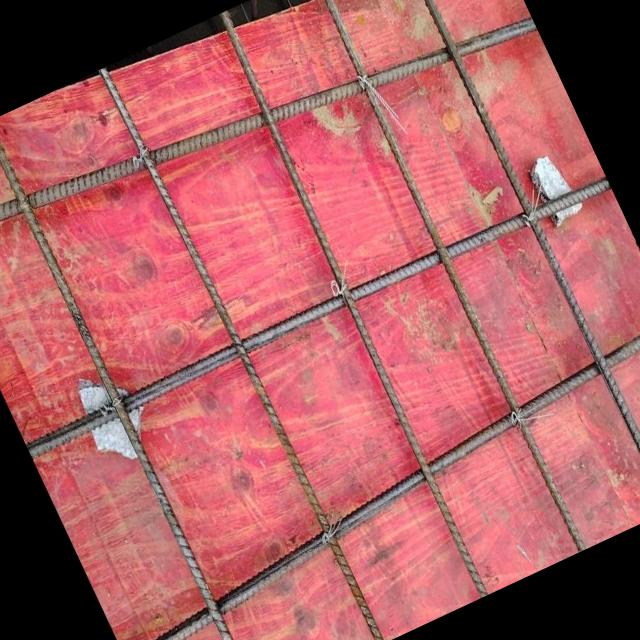ribbed bar: (90, 315, 640, 640), (208, 11, 498, 599), (26, 173, 614, 463), (98, 62, 387, 640), (0, 0, 538, 301), (305, 0, 590, 554), (0, 121, 262, 640), (390, 0, 640, 514)
